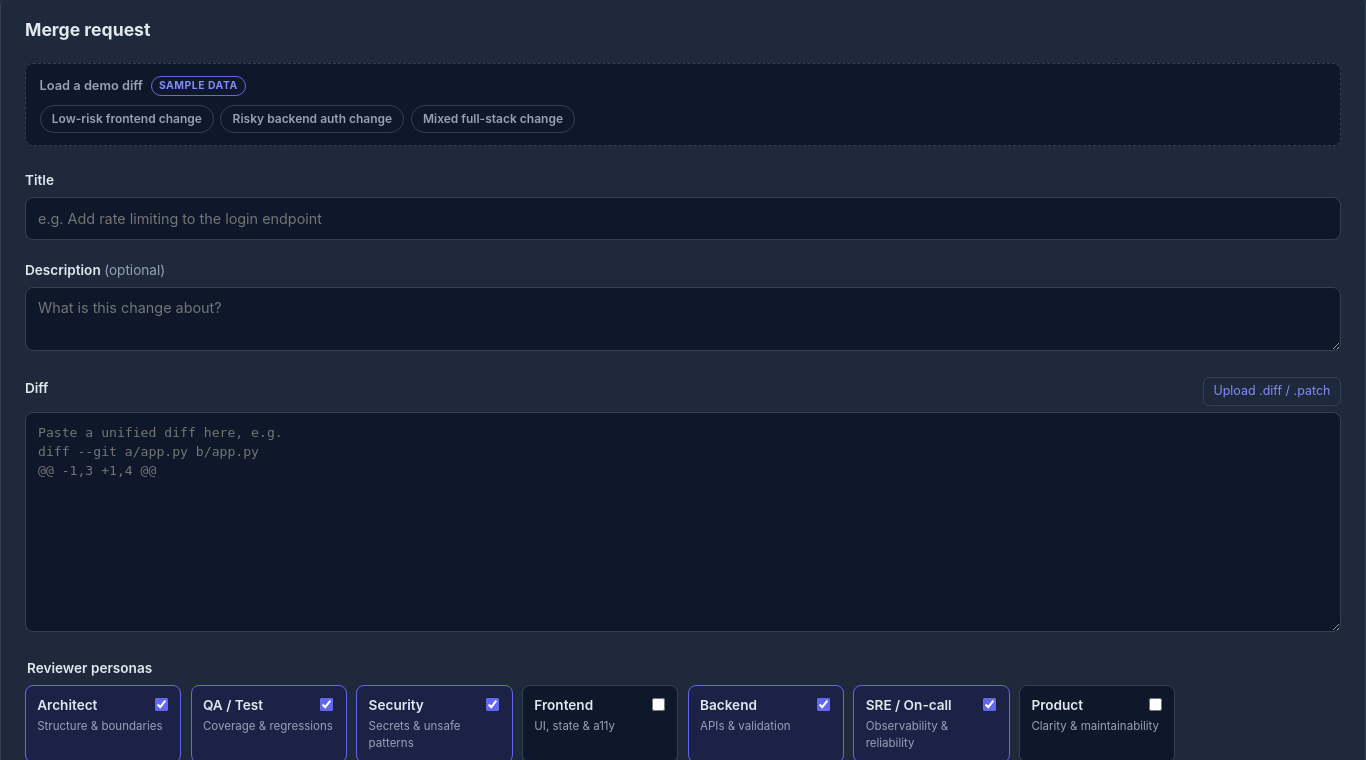
Test: DiffInputPanel › loads a demo diff into the form and enables Run Review
Click the button "Low-risk frontend change": click(127, 119) [40, 105, 214, 133]
(page scrolled)
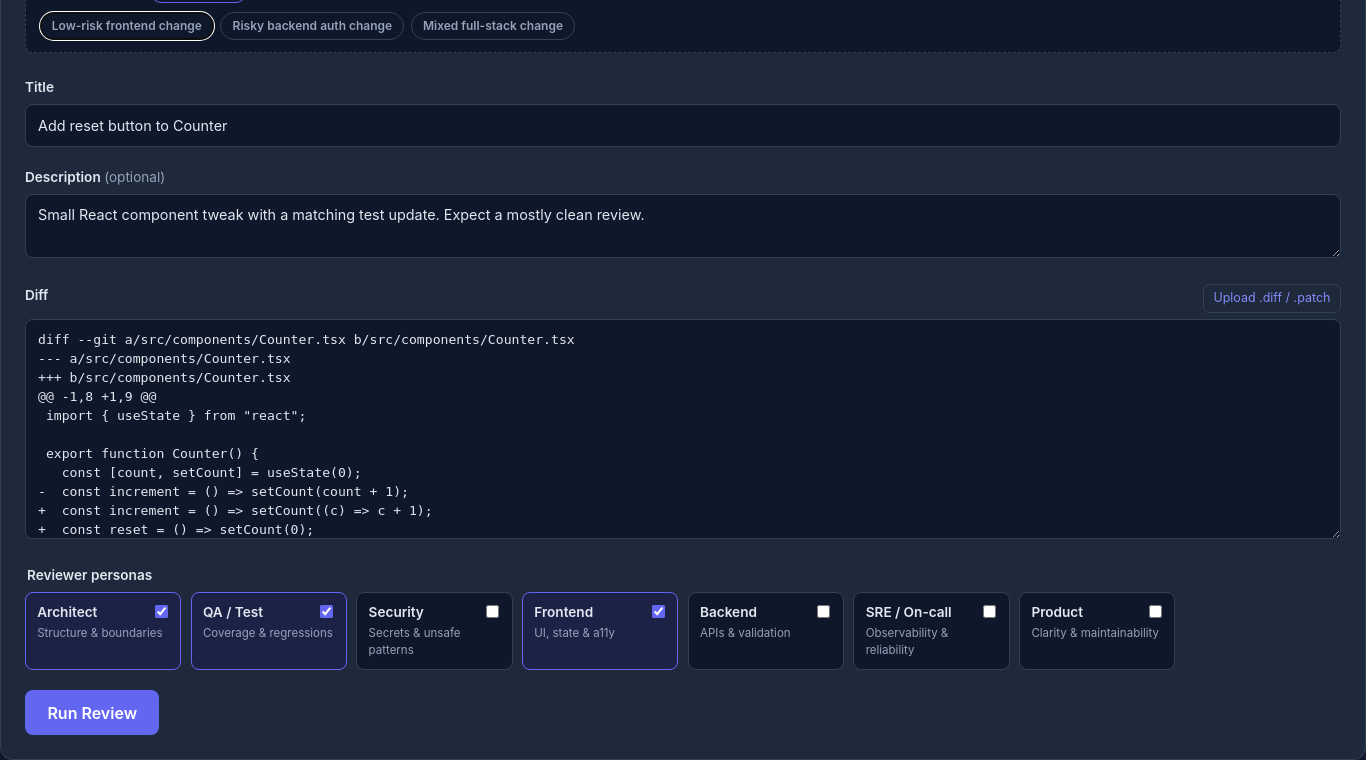
Expected: the field labelled "Title" holds "Add reset button to Counter", [25, 104, 1341, 147]
Expected: the button "Run Review" is enabled, [25, 690, 160, 735]
